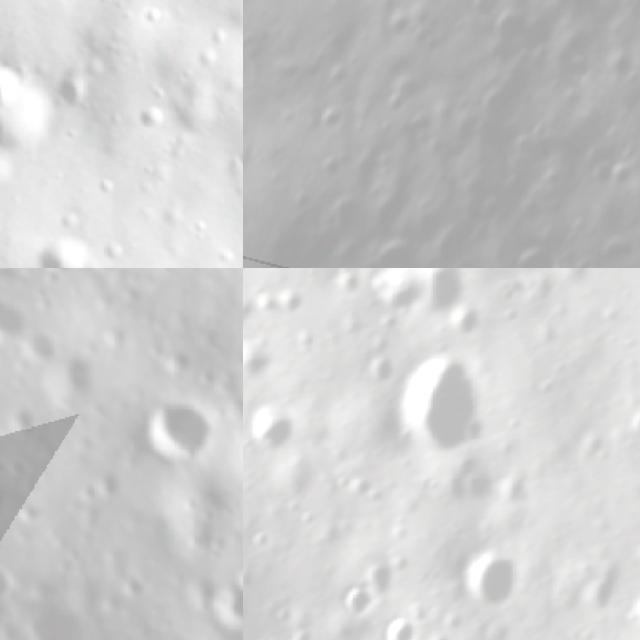crater: (390, 347, 496, 458), (134, 392, 218, 466), (0, 66, 58, 163), (459, 546, 523, 614), (39, 346, 104, 405), (16, 591, 93, 640), (349, 222, 431, 268), (438, 452, 499, 507), (244, 401, 302, 458), (486, 0, 544, 56), (195, 557, 243, 624), (509, 112, 565, 168), (375, 268, 435, 320), (580, 560, 630, 616), (432, 213, 482, 267), (476, 78, 525, 126), (33, 233, 99, 268), (0, 284, 37, 346), (592, 222, 639, 268), (507, 232, 566, 268), (314, 96, 360, 139), (243, 338, 280, 387), (363, 562, 405, 600), (55, 76, 89, 120), (335, 591, 379, 625), (604, 48, 640, 89), (378, 84, 416, 122), (323, 57, 361, 94), (384, 5, 422, 41), (314, 146, 350, 183), (136, 102, 174, 136), (0, 556, 22, 607), (460, 170, 491, 204), (0, 60, 21, 109), (585, 153, 618, 184), (274, 291, 308, 320), (608, 159, 636, 193), (382, 617, 422, 640), (467, 0, 506, 20), (624, 398, 640, 443), (243, 293, 260, 330), (252, 530, 273, 558), (628, 591, 640, 640), (243, 80, 253, 108)
